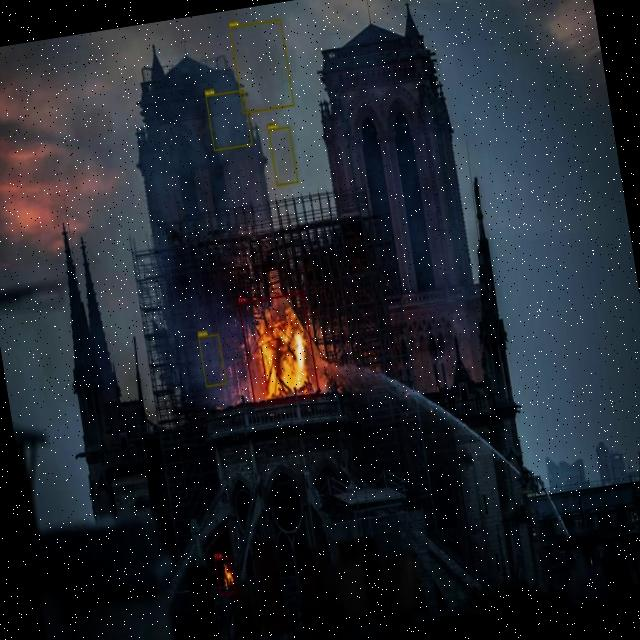fire: (238, 292, 320, 407), (214, 556, 237, 596)
smoke: (229, 18, 294, 114), (205, 90, 252, 150), (268, 126, 298, 186), (198, 333, 227, 388)
